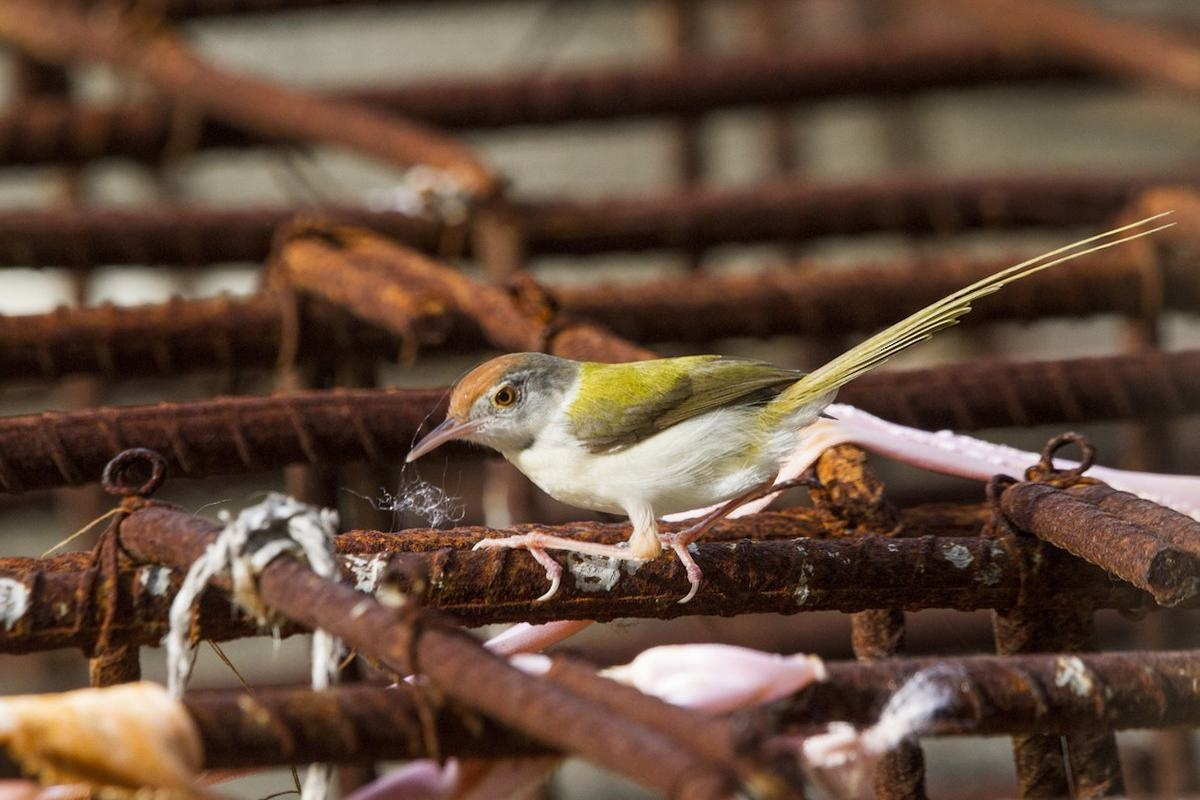tailorbird: (419, 227, 1120, 565)
